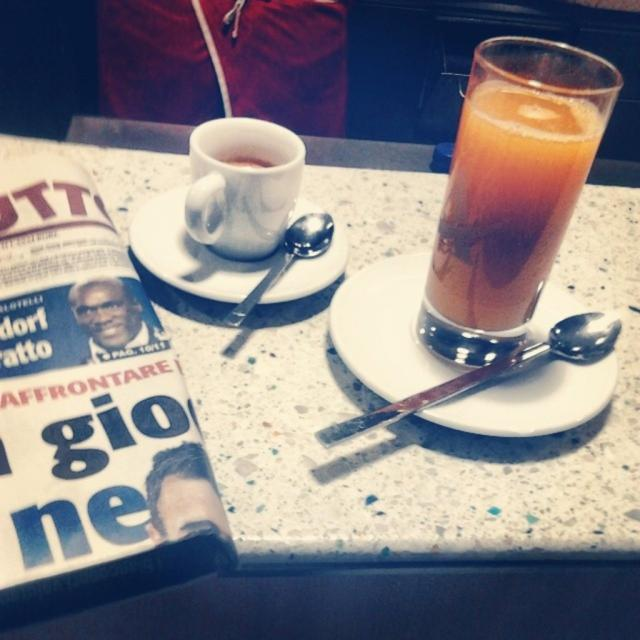Coffee: (225, 156, 273, 173)
